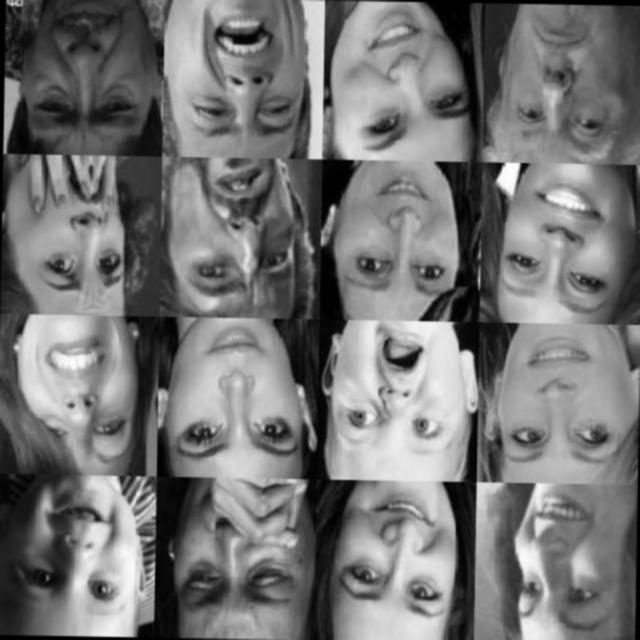fear: (0, 165, 136, 298), (174, 162, 294, 296), (336, 334, 466, 452)
happy: (493, 164, 624, 317), (164, 324, 304, 464), (329, 481, 462, 628), (12, 478, 138, 622), (182, 1, 306, 142), (331, 11, 466, 140), (494, 332, 621, 468), (15, 318, 134, 461), (496, 491, 612, 627), (340, 163, 452, 300)
neutral: (492, 16, 622, 146)
sad: (168, 482, 304, 624), (11, 0, 135, 127)
